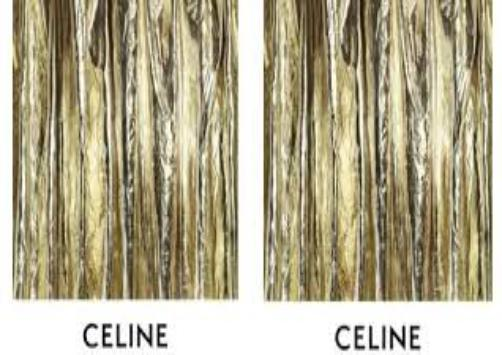CELINE: (78, 314, 172, 352), (336, 319, 427, 355)
